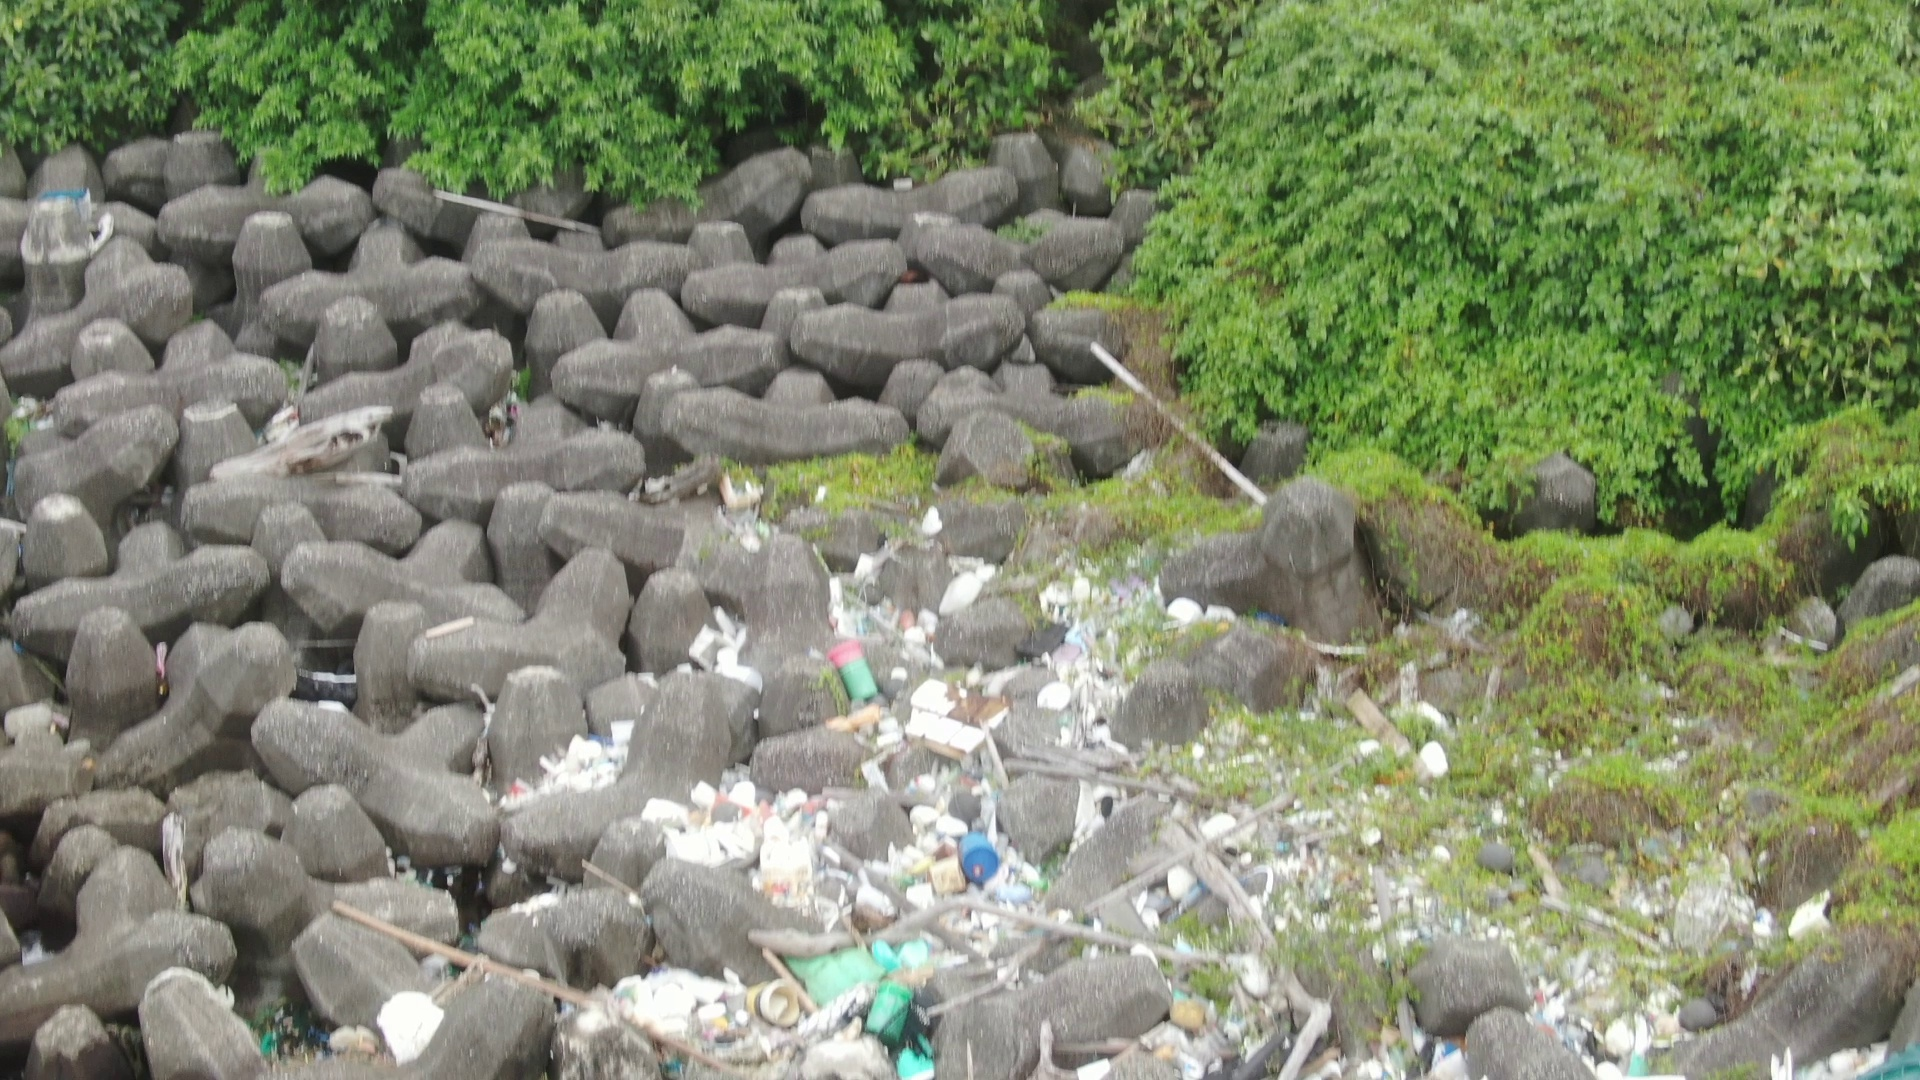garbage: (489, 463, 1324, 1080), (1416, 965, 1915, 1080), (247, 977, 343, 1067), (483, 382, 534, 454), (32, 174, 103, 222), (145, 629, 177, 717)
